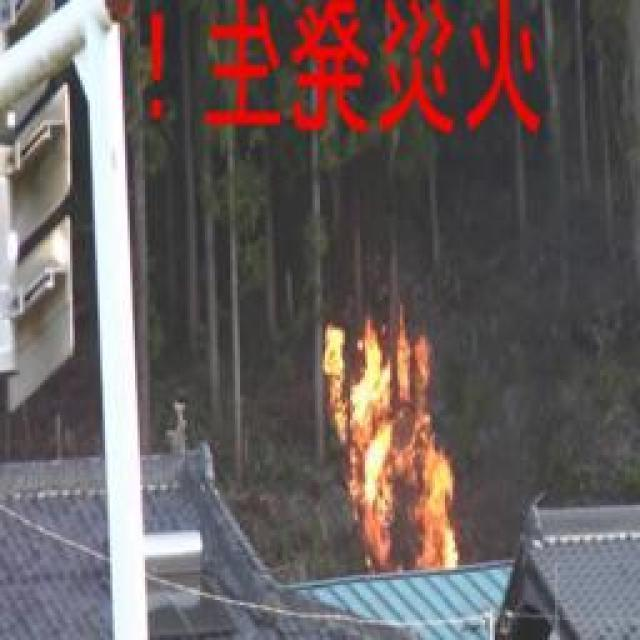Fire: (310, 320, 468, 583)
